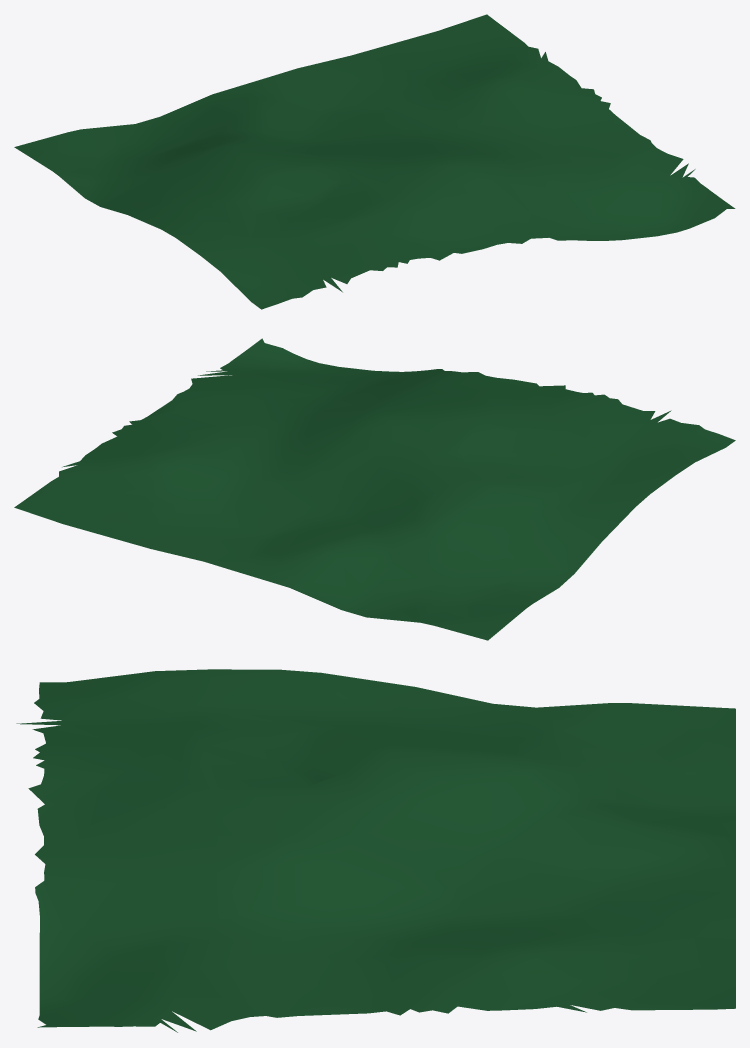
Rendered from payo_land_x3_ym4_lod2.glb.
3 renders of one model, top to bottom at view 1: azimuth 30°, elevation 25°; view 2: azimuth 150°, elevation 25°; view 3: azimuth 270°, elevation 25°, orthographic. The views are drawn at different scales.
Parts seen in each view (by area): view 1: payo_land_x3_ym4; view 2: payo_land_x3_ym4; view 3: payo_land_x3_ym4.
Boxes of the visible parts, x1,y1,x2,y2 form: payo_land_x3_ym4: [14, 14, 735, 309]; payo_land_x3_ym4: [14, 338, 735, 640]; payo_land_x3_ym4: [16, 669, 735, 1032].
Bounding box in the file's own units: 261 × 22.58 × 240.
